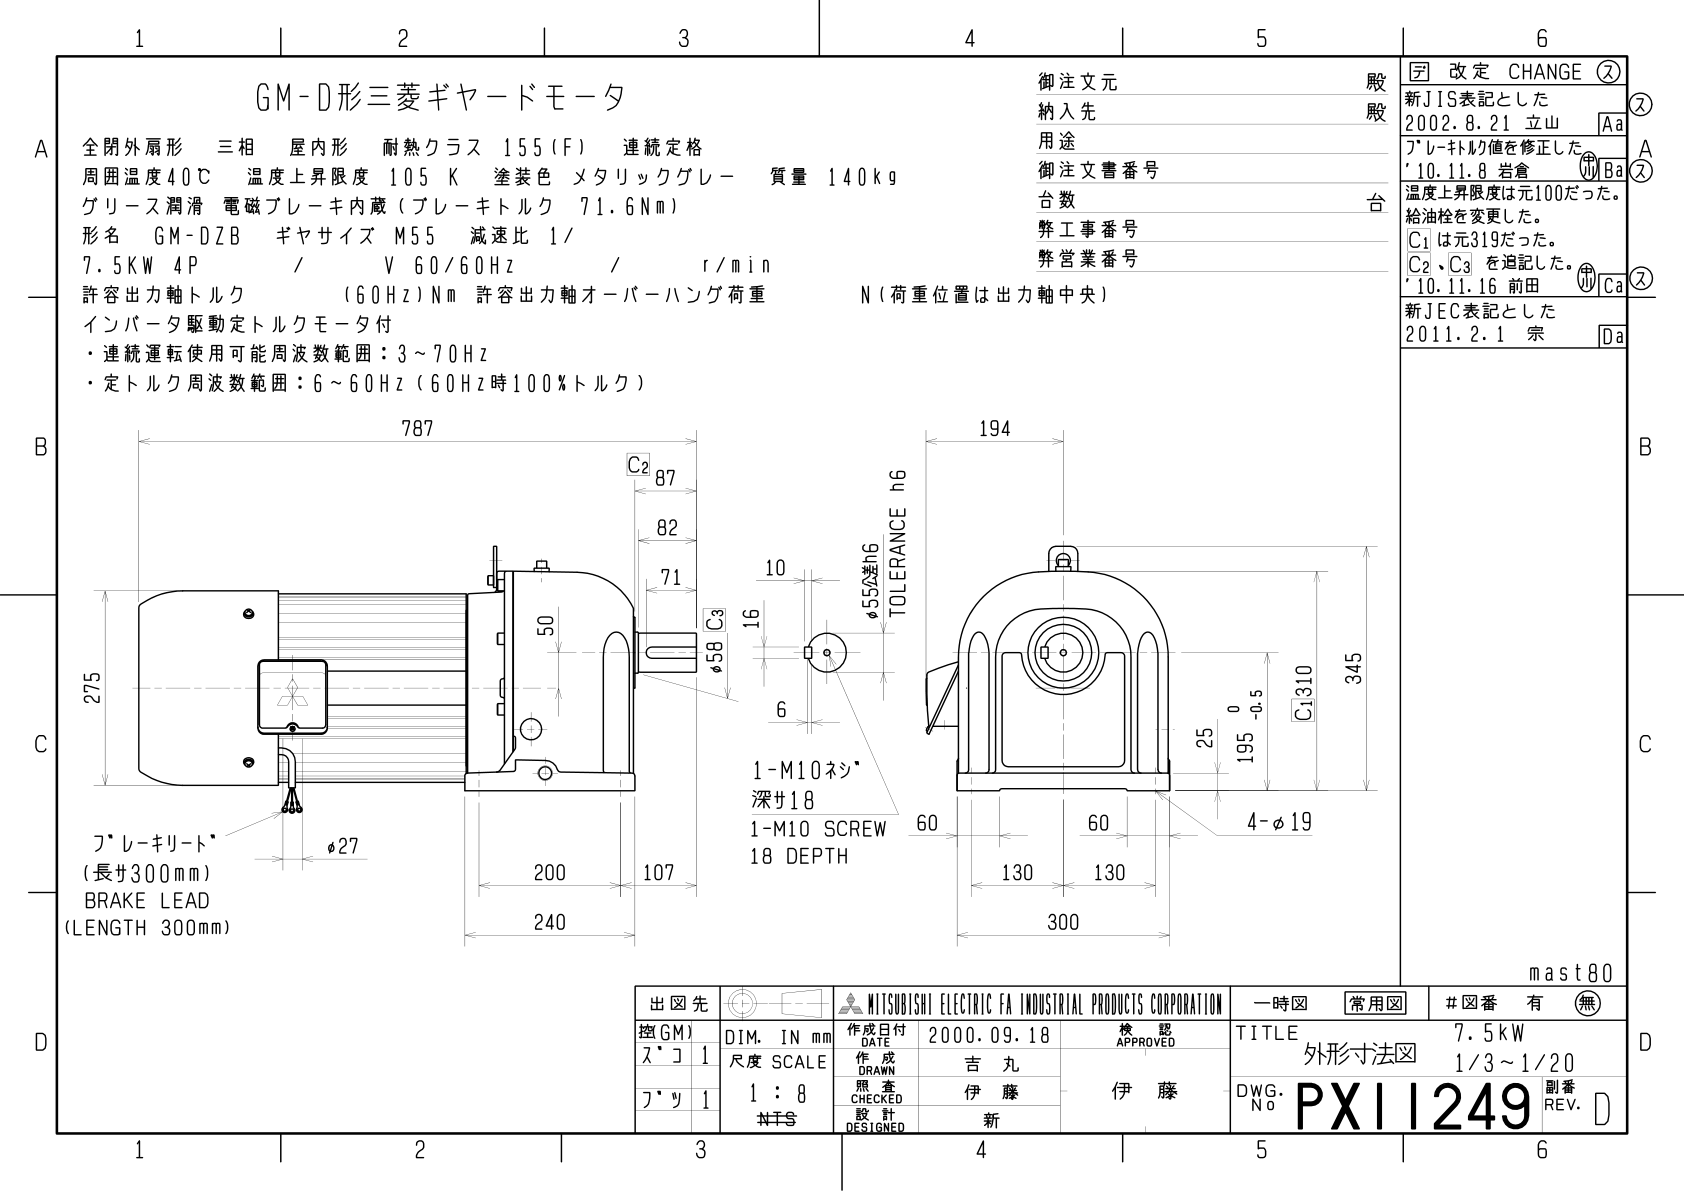GM_D_インバータ屋内_三相_脚: (63, 391, 1395, 969)
